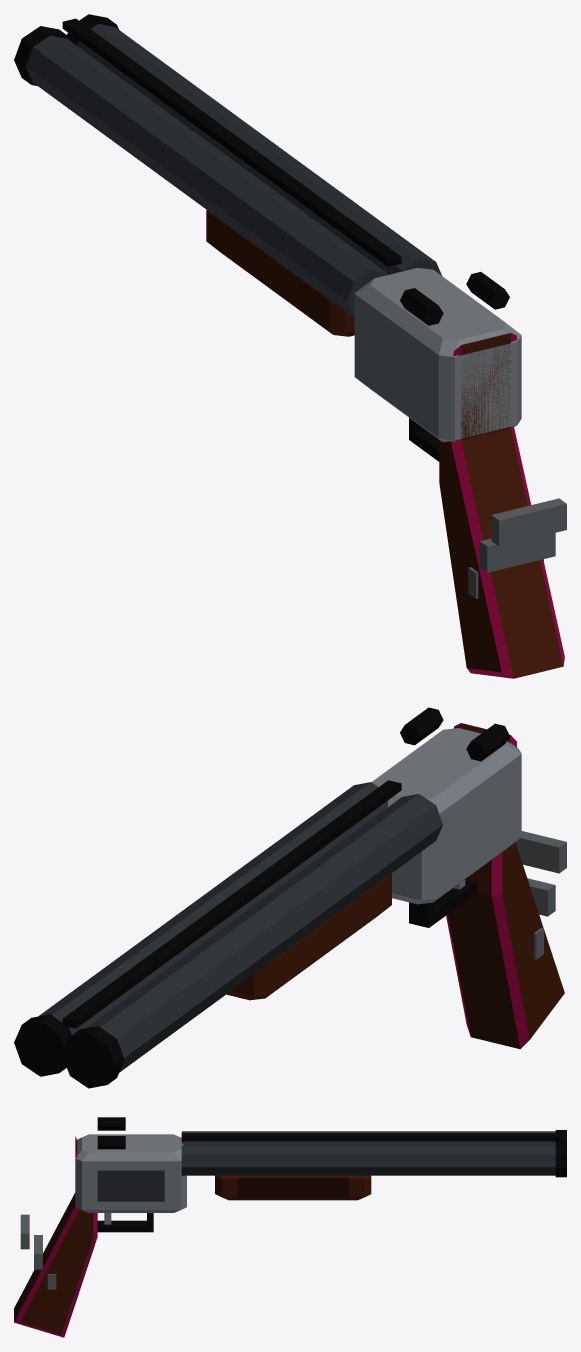
The model's file is SM_Wep_SawnOff.glb.
3 renders of one model, top to bottom at view 1: azimuth 30°, elevation 25°; view 2: azimuth 150°, elevation 25°; view 3: azimuth 270°, elevation 25°, orthographic. The views are drawn at different scales.
Visible parts, largest first — view 1: SM_Wep_SawnOff, SM_Wep_SawnOff_Barrels; view 2: SM_Wep_SawnOff_Barrels, SM_Wep_SawnOff; view 3: SM_Wep_SawnOff_Barrels, SM_Wep_SawnOff.
Part boxes in pixels (x1,y1,x2,y2): SM_Wep_SawnOff: (354, 268, 566, 678); SM_Wep_SawnOff_Barrels: (14, 14, 441, 336); SM_Wep_SawnOff_Barrels: (14, 780, 442, 1088); SM_Wep_SawnOff: (371, 707, 566, 1049); SM_Wep_SawnOff_Barrels: (181, 1130, 566, 1200); SM_Wep_SawnOff: (14, 1117, 186, 1337).
Bounding box in the file's own units: 0.061 × 0.2002 × 0.495.
1 material, 1 textured.
